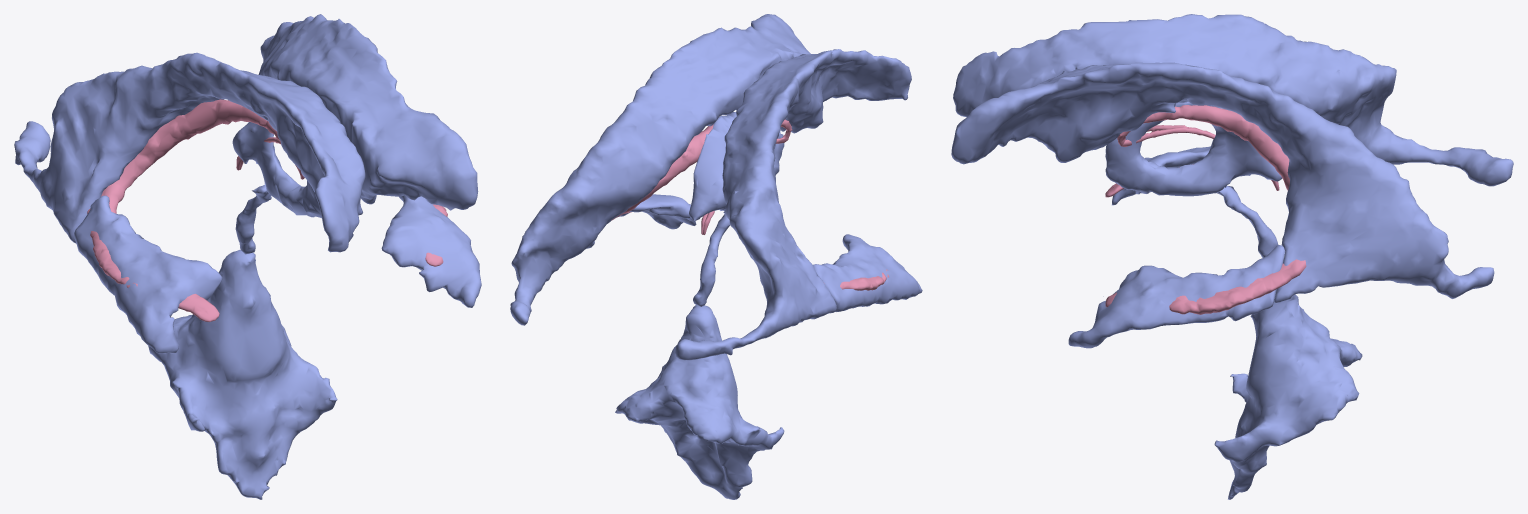
Rendered from ventricles.lod0.glb.
3 views of the same model, side by side, from view 1: azimuth 30°, elevation 25°; view 2: azimuth 150°, elevation 25°; view 3: azimuth 270°, elevation 25° (orthographic). The views are drawn at different scales.
Visible parts, largest first — view 1: lateral-ventricle-r, fourth-ventricle, lateral-ventricle-l, temporal-horn-of-lateral-ventricle-r, temporal-horn-of-lateral-ventricle-l, choroid-plexus-of-cerebral-hemisphere, third-ventricle, aqueduct; view 2: lateral-ventricle-l, lateral-ventricle-r, fourth-ventricle, temporal-horn-of-lateral-ventricle-r, third-ventricle, choroid-plexus-of-cerebral-hemisphere, temporal-horn-of-lateral-ventricle-l, aqueduct; view 3: lateral-ventricle-l, lateral-ventricle-r, fourth-ventricle, temporal-horn-of-lateral-ventricle-l, third-ventricle, choroid-plexus-of-cerebral-hemisphere, aqueduct, temporal-horn-of-lateral-ventricle-r.
Boxes of the visible parts, box(x1,y1,x2,y2) form: lateral-ventricle-r: box(14, 52, 365, 252); fourth-ventricle: box(148, 249, 337, 499); lateral-ventricle-l: box(248, 14, 478, 210); temporal-horn-of-lateral-ventricle-r: box(74, 195, 222, 353); temporal-horn-of-lateral-ventricle-l: box(381, 195, 481, 307); choroid-plexus-of-cerebral-hemisphere: box(87, 99, 447, 321); third-ventricle: box(232, 122, 321, 218); aqueduct: box(235, 184, 271, 254); lateral-ventricle-l: box(510, 14, 810, 325); lateral-ventricle-r: box(675, 49, 911, 360); fourth-ventricle: box(615, 305, 784, 499); temporal-horn-of-lateral-ventricle-r: box(813, 234, 922, 311); third-ventricle: box(689, 112, 784, 221); choroid-plexus-of-cerebral-hemisphere: box(611, 119, 888, 290); temporal-horn-of-lateral-ventricle-l: box(620, 194, 699, 229); aqueduct: box(693, 212, 730, 306); lateral-ventricle-l: box(951, 62, 1494, 303); lateral-ventricle-r: box(953, 14, 1513, 186); fourth-ventricle: box(1214, 294, 1362, 499); temporal-horn-of-lateral-ventricle-l: box(1068, 245, 1285, 348); third-ventricle: box(1105, 102, 1282, 196); choroid-plexus-of-cerebral-hemisphere: box(1105, 105, 1306, 314); aqueduct: box(1216, 186, 1278, 257); temporal-horn-of-lateral-ventricle-r: box(1112, 146, 1210, 205).
Bounding box in the file's own units: 0.0754 × 0.1021 × 0.1108.
